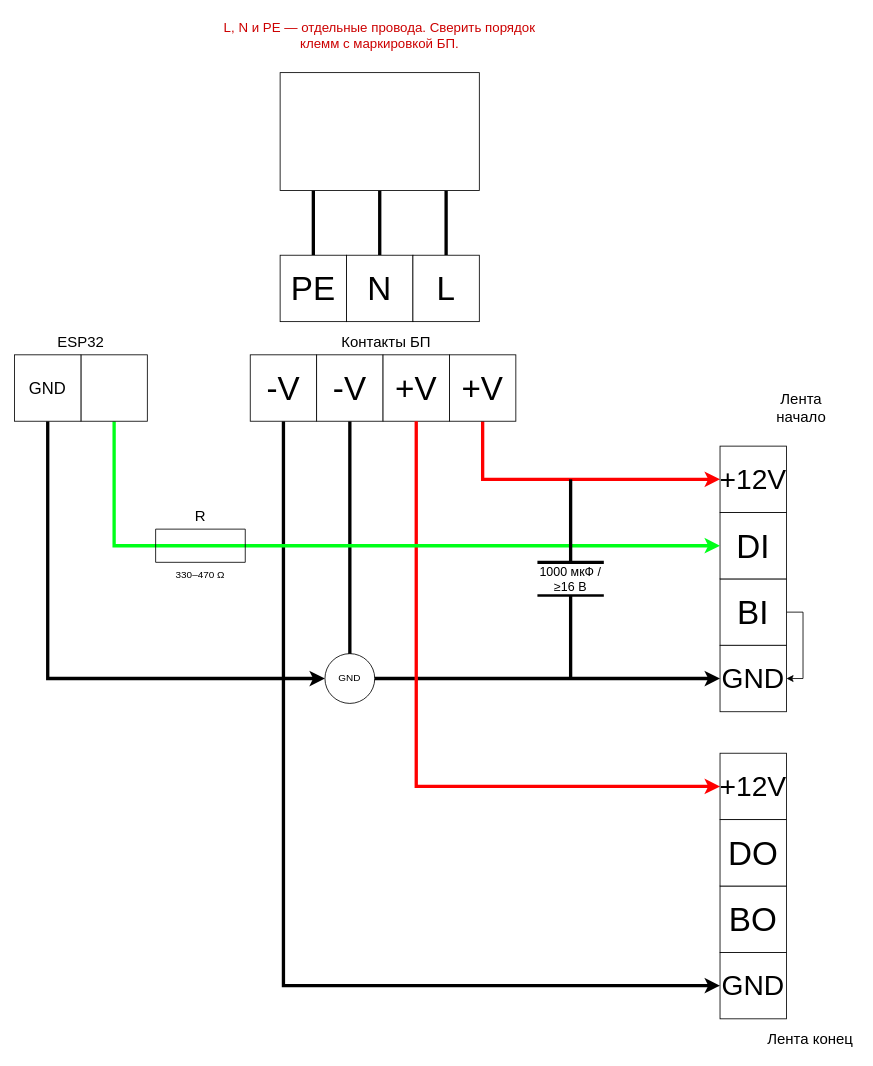
Image size: 873x1066. Some labels were removed from this diagram. The centre of each missing label's shape, as x and y in pixels:
"GPIO18" belongs at point 113,387.
"Вилка / сеть 230 В" belongs at point 379,131.
